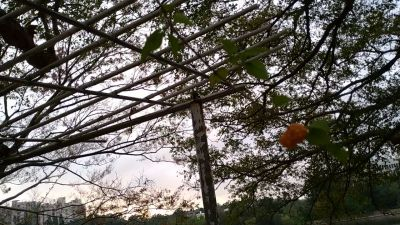eggs: (279, 121, 308, 151)
